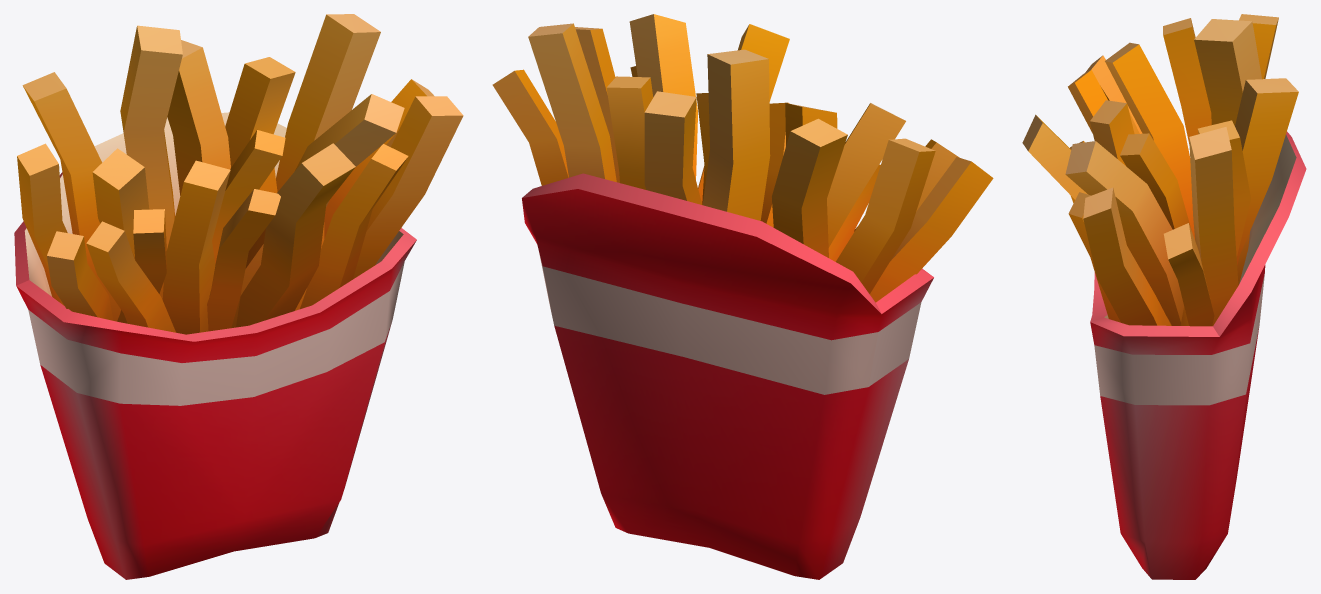
Rendered from frenchFries.fbx.
The picture shows the model from 3 angles, left to right: view 1: azimuth 30°, elevation 25°; view 2: azimuth 150°, elevation 25°; view 3: azimuth 270°, elevation 25°; orthographic projection. The views are drawn at different scales.
Visible parts, largest first — view 1: frenchFries; view 2: frenchFries; view 3: frenchFries.
Boxes of the visible parts, <box> form: frenchFries: <box>14,14,463,579</box>; frenchFries: <box>492,14,993,579</box>; frenchFries: <box>1022,14,1306,579</box>.
Size of the model in its own units: 12.86 by 14.16 by 7.41.
